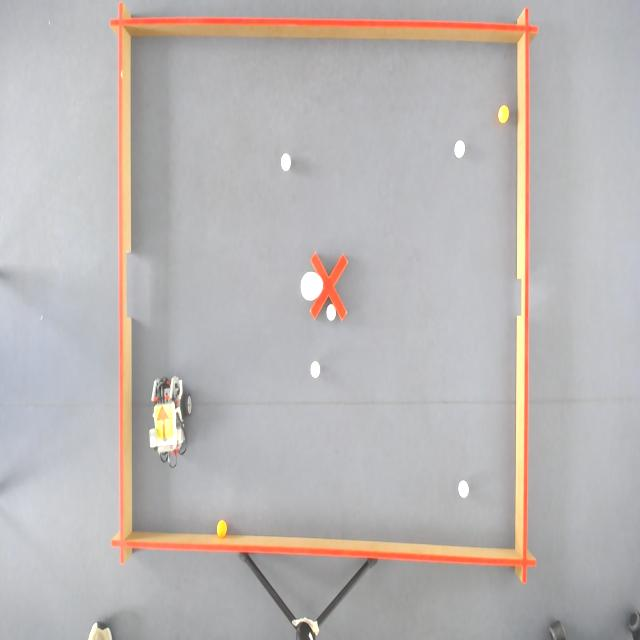cross: (308, 250, 348, 322)
egg: (299, 270, 325, 302)
orange_ball: (498, 103, 510, 126), (216, 516, 228, 539)
robot: (154, 405, 175, 446)
white_ball: (309, 359, 322, 381), (457, 478, 470, 500), (280, 150, 292, 173), (325, 303, 338, 324), (454, 138, 466, 159)
